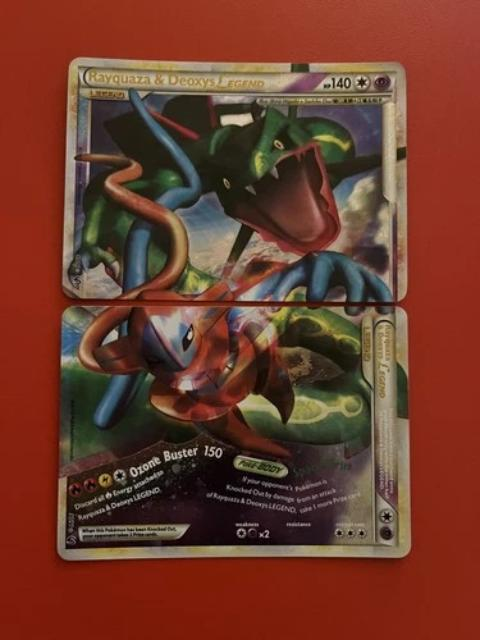Card: (57, 52, 414, 305)
Name: (85, 66, 271, 94), (371, 321, 399, 409)
